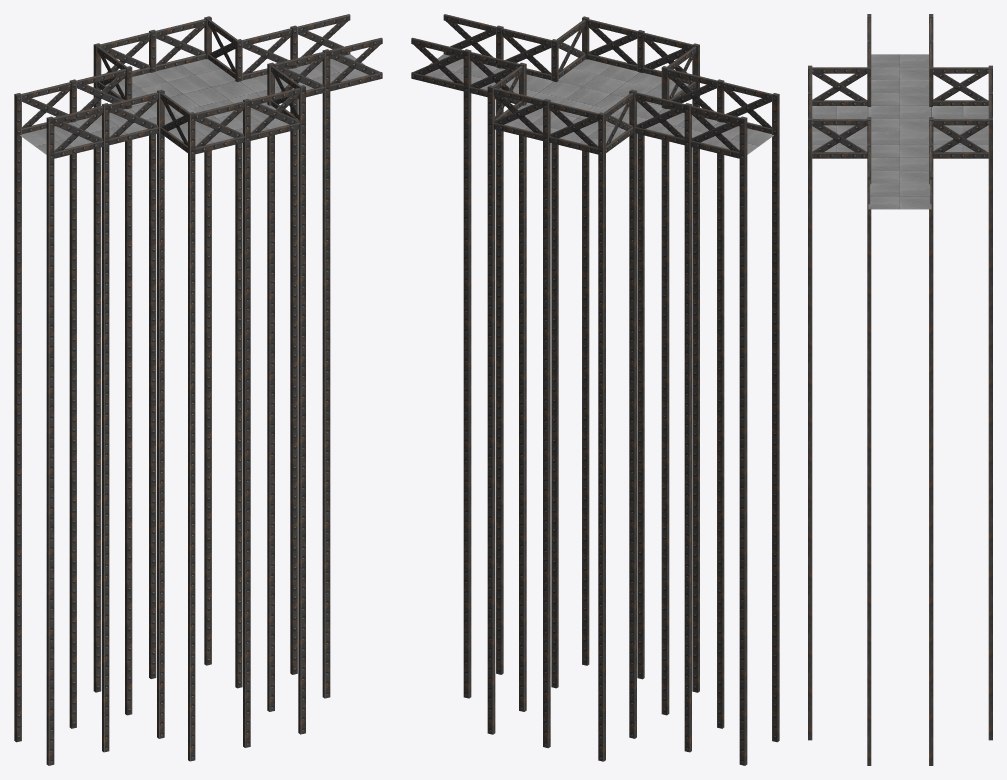
Rendered from Catwalk_Straight_Spacious.fbx.
The picture shows the model from 3 angles, left to right: view 1: azimuth 30°, elevation 25°; view 2: azimuth 150°, elevation 25°; view 3: azimuth 270°, elevation 25°; orthographic projection. The views are drawn at different scales.
Visible parts, largest first — view 1: Catwalk_Beam, Catwalk_Straight_Spacious; view 2: Catwalk_Beam, Catwalk_Straight_Spacious; view 3: Catwalk_Straight_Spacious, Catwalk_Beam.
Boxes of the visible parts, box(x1,y1,x2,y2) form: Catwalk_Beam: box(14, 87, 330, 765); Catwalk_Straight_Spacious: box(14, 14, 382, 161); Catwalk_Beam: box(463, 87, 779, 765); Catwalk_Straight_Spacious: box(411, 14, 779, 161); Catwalk_Straight_Spacious: box(808, 14, 992, 209); Catwalk_Beam: box(808, 83, 992, 765).
Size of the model in its own units: 2762 by 5105 by 1378.
